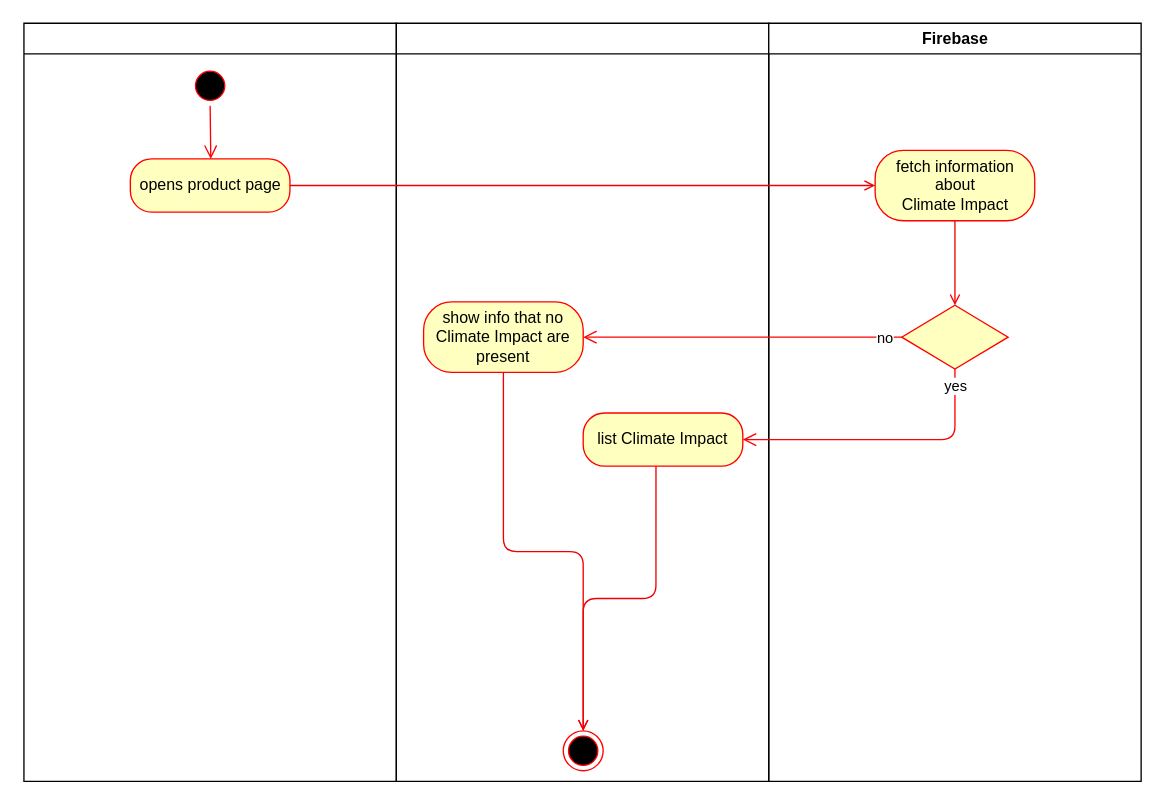
This 1164x805 diagram has some shape labels left out. Each missing label, with the box of its shape:
App: (395, 22, 769, 781)
Found?: (900, 304, 1008, 369)
User: (23, 22, 396, 781)
